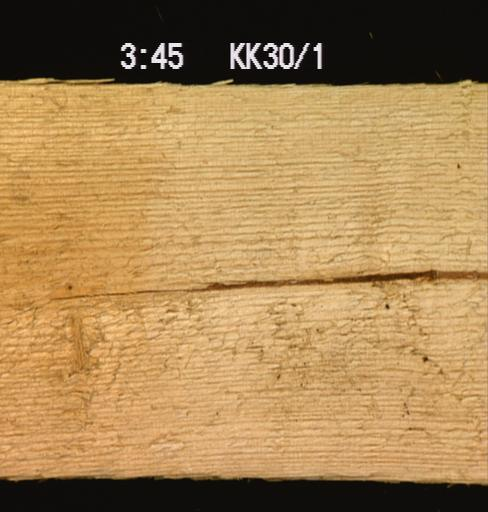split: (46, 283, 200, 300)
